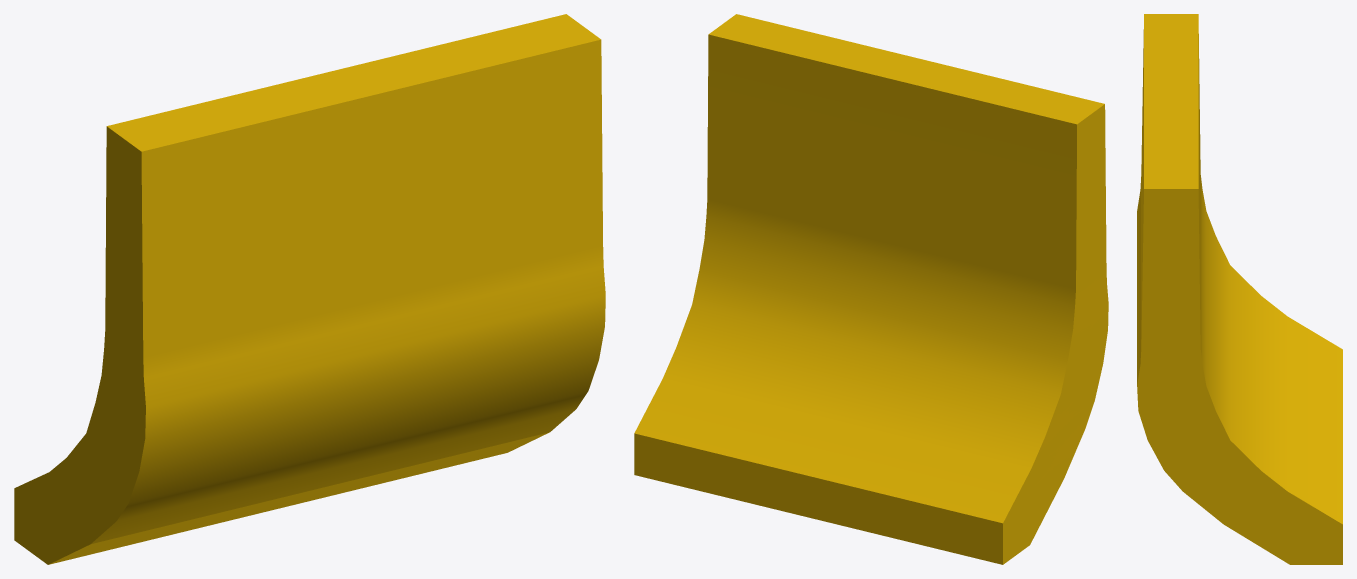
File: New Concreate.fbx
The picture shows the model from 3 angles, left to right: view 1: azimuth 30°, elevation 25°; view 2: azimuth 150°, elevation 25°; view 3: azimuth 270°, elevation 25°; orthographic projection. The views are drawn at different scales.
Parts seen in each view (by area): view 1: pCube33; view 2: pCube33; view 3: pCube33.
Boxes of the visible parts, x1,y1,x2,y2 form: pCube33: (14,14,605,564); pCube33: (634,14,1108,564); pCube33: (1137,14,1342,564).
Size of the model in its own units: 7.66 by 7.67 by 3.81.
